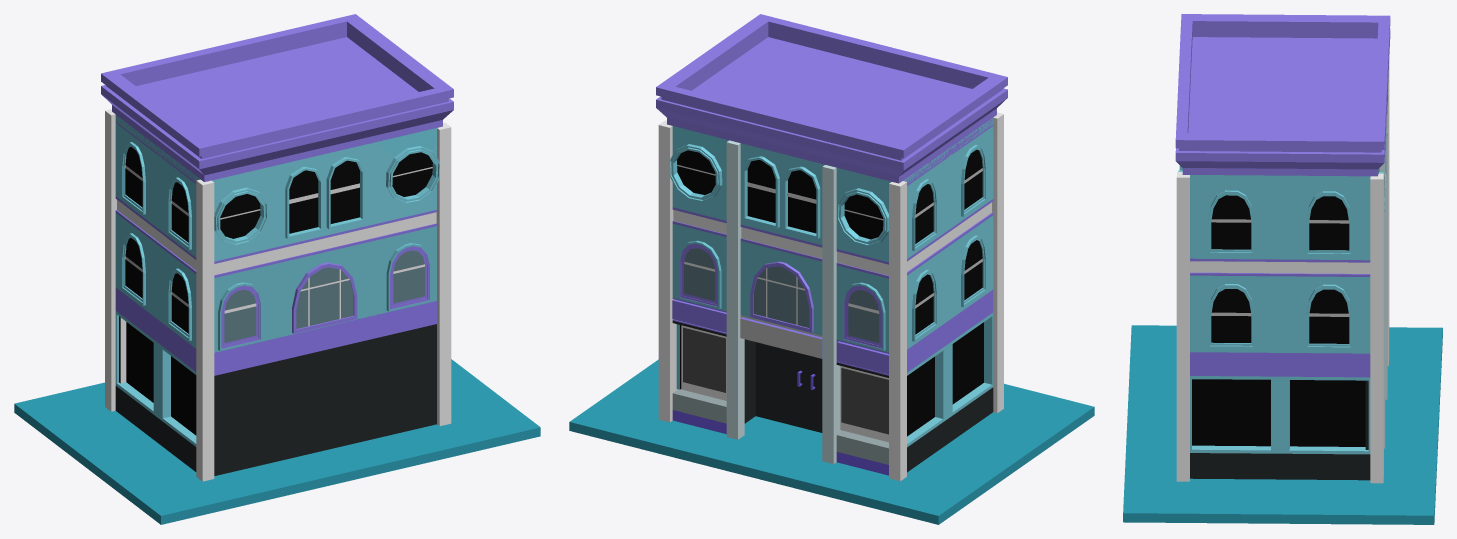
The model's file is city_building-8-TEST.glb.
3 views of the same model, side by side, from view 1: azimuth 30°, elevation 25°; view 2: azimuth 150°, elevation 25°; view 3: azimuth 270°, elevation 25° (orthographic). The views are drawn at different scales.
Visible parts, largest first — view 1: Object_105; view 2: Object_105; view 3: Object_105.
Part boxes in pixels (x1=…): Object_105: x1=14, y1=14, x2=540, y2=524; Object_105: x1=569, y1=14, x2=1094, y2=524; Object_105: x1=1123, y1=14, x2=1442, y2=524.
Size of the model in its own units: 16.13 by 13.89 by 11.44.
Materials: 1 (1 with a texture image).
